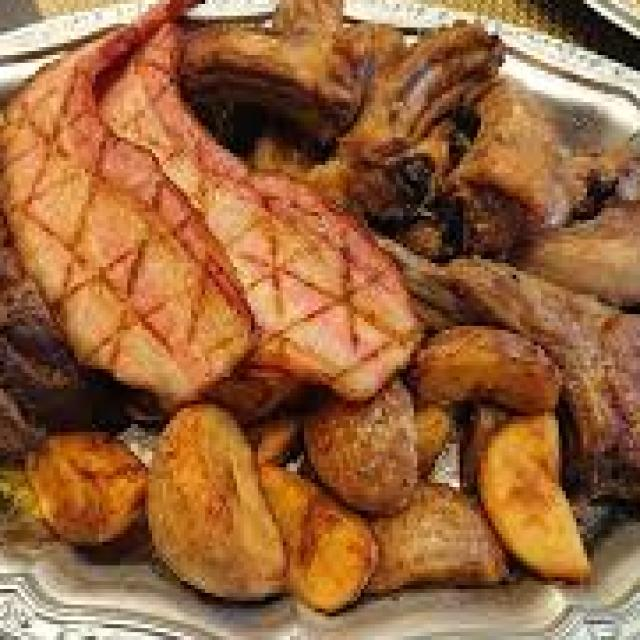inorganic: (14, 47, 618, 607)
